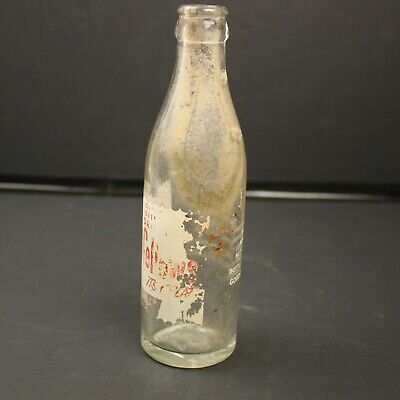glass_bottle: (137, 1, 250, 376)
